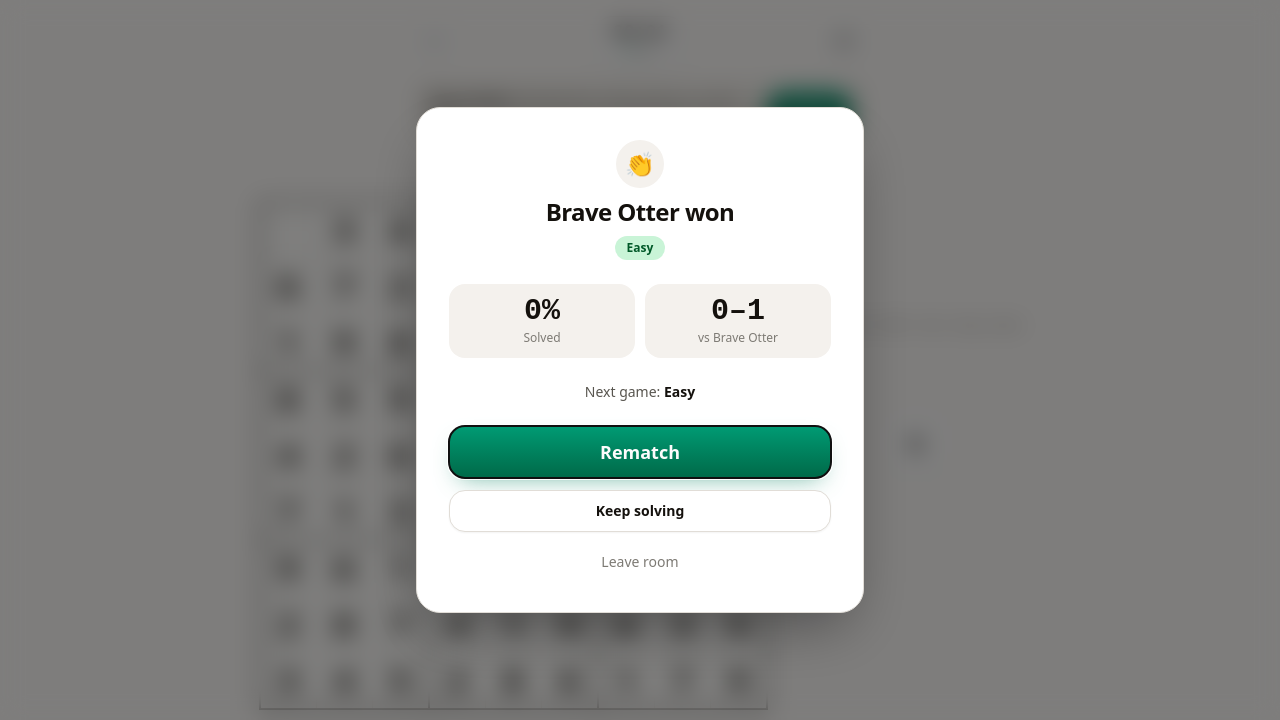
Test case: MultiplayerBoard after opponent wins › brings the result back once the loser finishes their board
This screenshot has width=1280, height=720.
Step 1. Click the button "Keep solving" → (640, 511), box [449, 490, 831, 532]
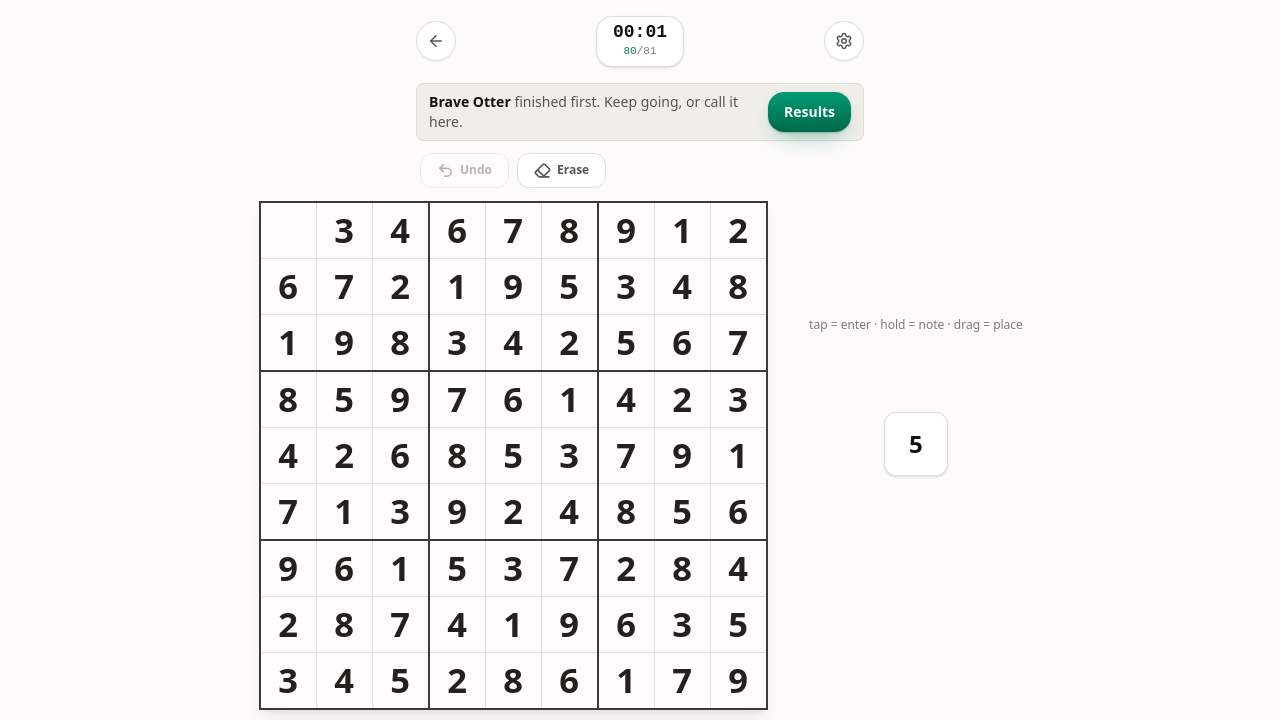
Step 2. Click the cell named "Cell row 1 column 1, empty" → (288, 230), box [261, 203, 316, 258]
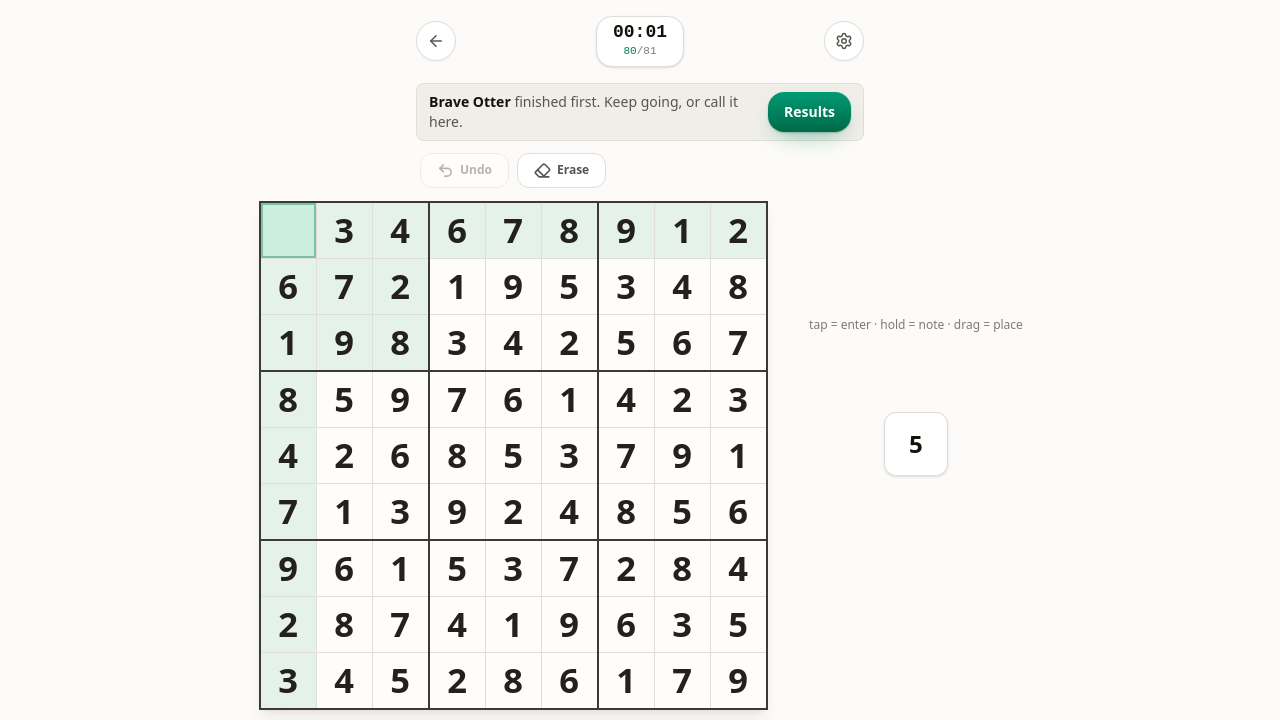
Step 3. Press the mouse on the button labelled "5" → (916, 444), box [884, 412, 948, 476]
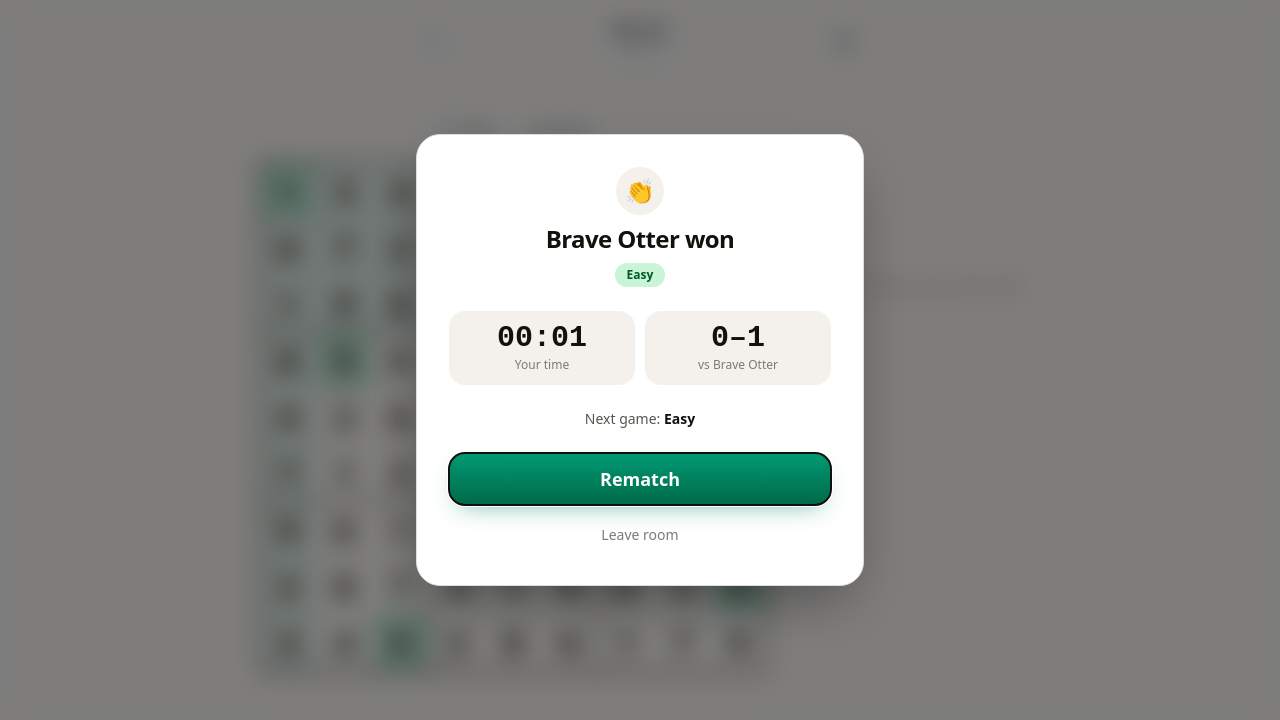
Check: the button "Keep solving" is not shown
Check: the dialog is shown, box [416, 134, 864, 586]
